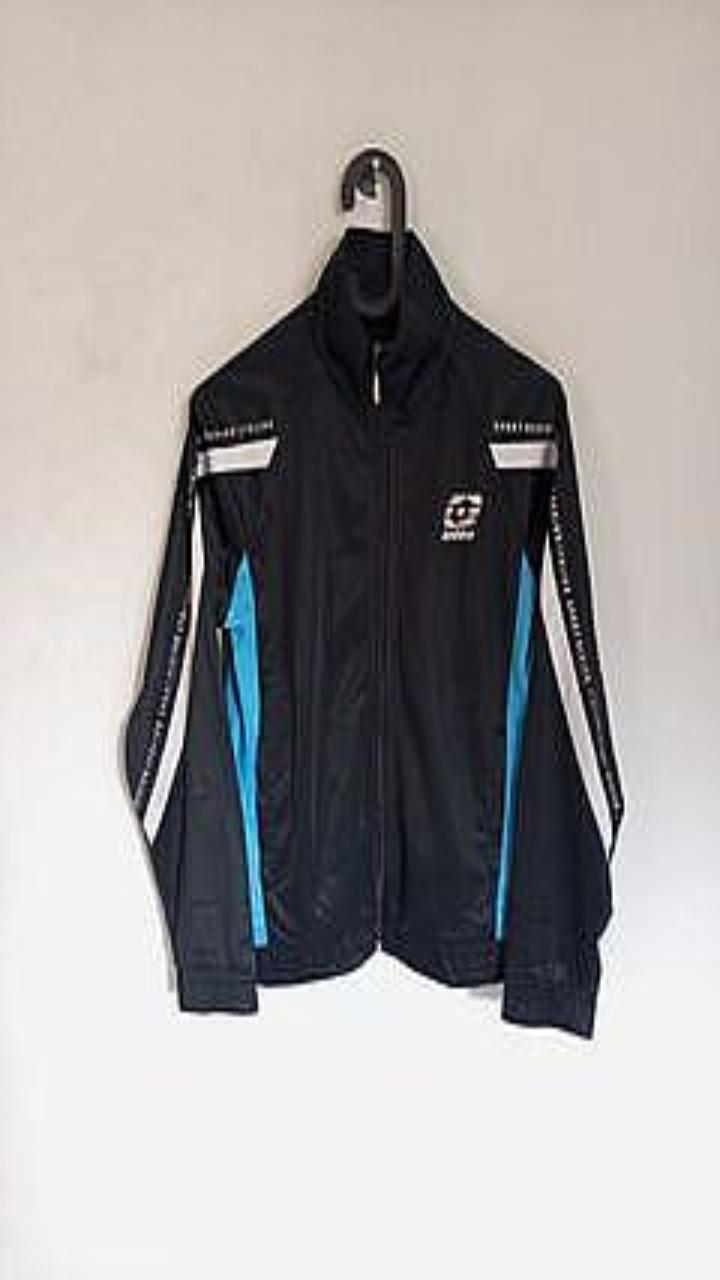Sports_Jacket: (124, 225, 623, 1037)
